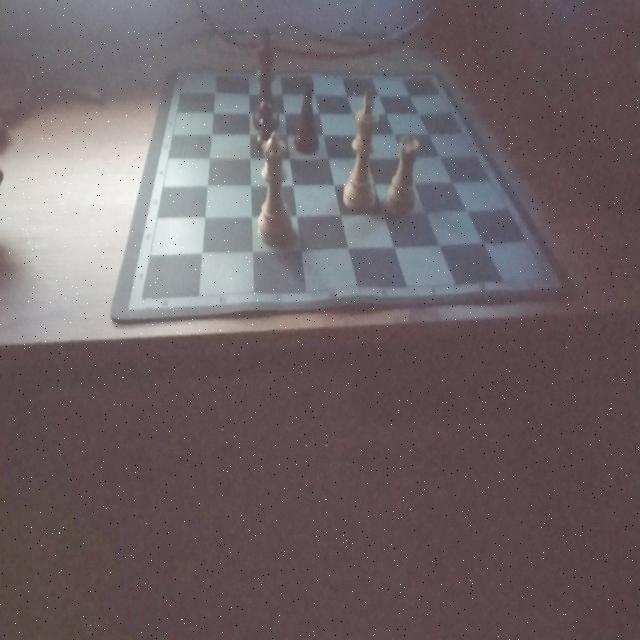corner: (132, 289, 152, 311), (537, 265, 556, 285), (423, 70, 440, 88), (172, 65, 188, 81)
